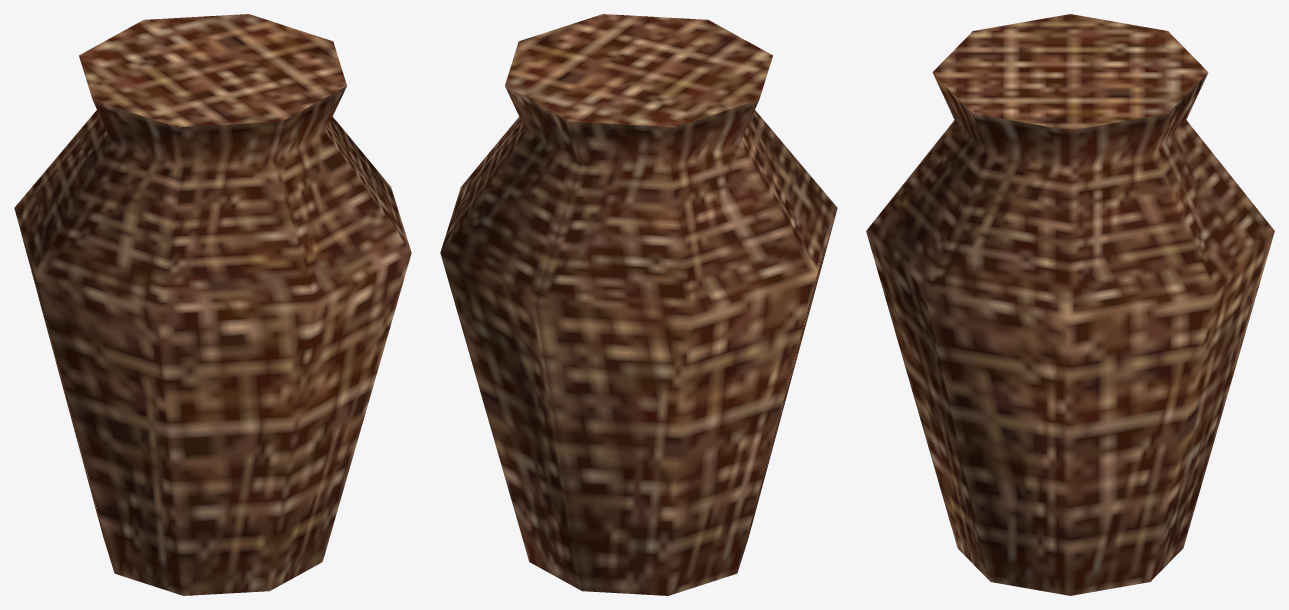
Rendered from luggage_female_head.dae.
3 renders of one model, left to right at view 1: azimuth 30°, elevation 25°; view 2: azimuth 150°, elevation 25°; view 3: azimuth 270°, elevation 25°, orthographic.
Parts seen in each view (by area): view 1: carry_res_female; view 2: carry_res_female; view 3: carry_res_female.
Part boxes in pixels (box(x1,y1,x2,y2)): carry_res_female: box(14, 14, 411, 595); carry_res_female: box(440, 14, 837, 595); carry_res_female: box(866, 14, 1274, 595).
Size of the model in its own units: 0.8385 by 1.08 by 0.8385.
